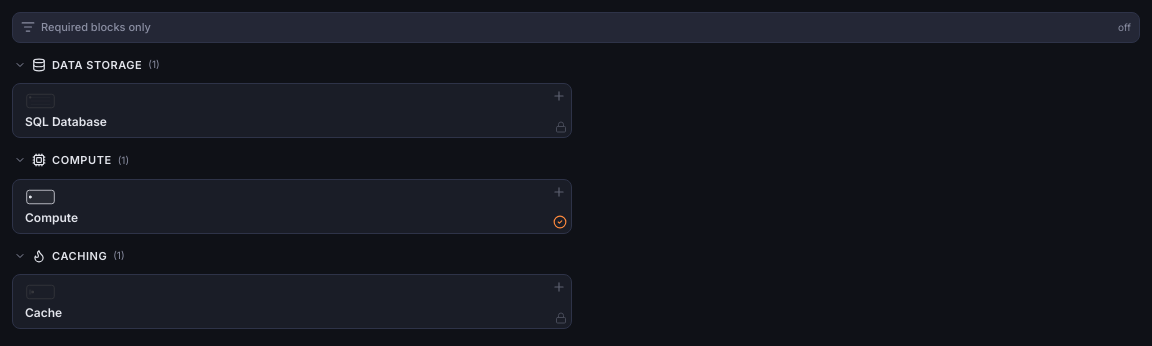
toolbox realism + required-blocks filter (P4-S5 / D94) › owned: the toggle narrows the palette to required types + categories, and back
Expected: the element with test id "type-block-cache" is shown, [12,274,572,329]
Click the button with test id "required-filter-toggle" at x=96, y=27, box [12,12,1140,42]
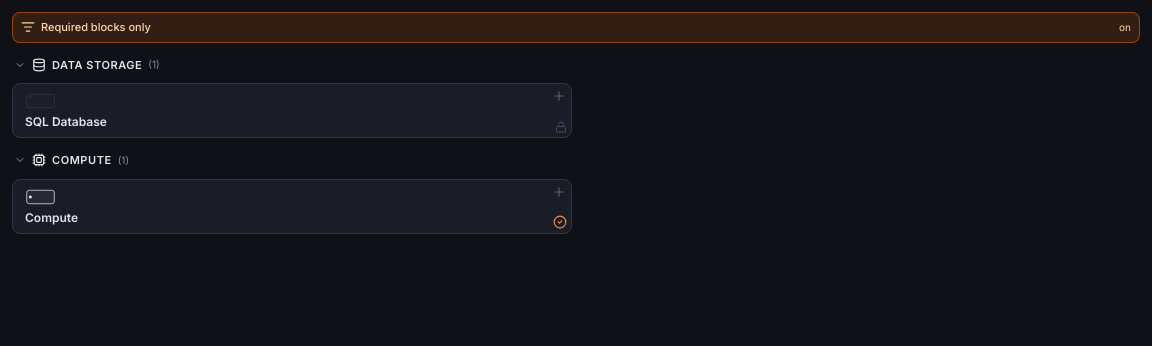
Expected: the element with test id "type-block-relational-db" is shown, [12,83,572,138]
Expected: the element with test id "type-block-cache" is gone
Click the button with test id "required-filter-toggle" at x=96, y=27, box [12,12,1140,42]
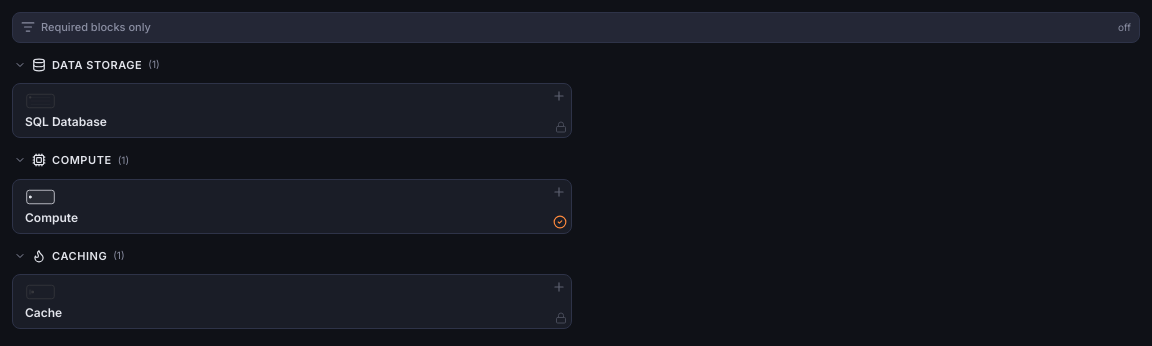
Expected: the element with test id "type-block-cache" is shown, [12,274,572,329]
